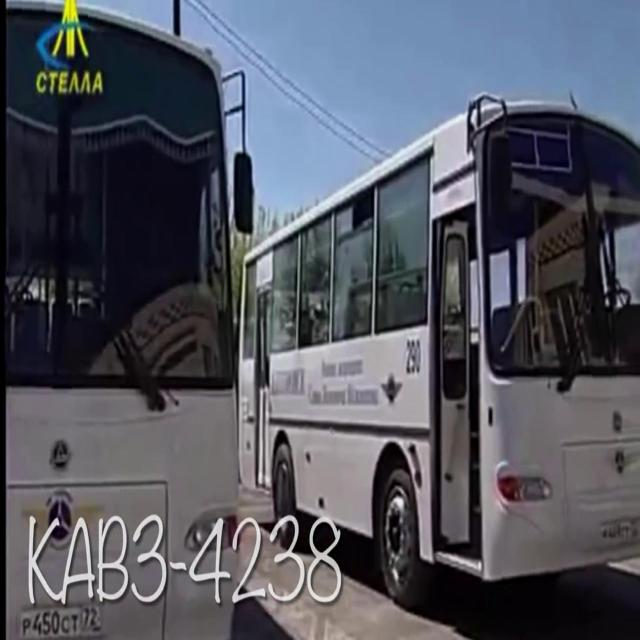bus: (243, 88, 640, 614), (1, 1, 255, 640)
